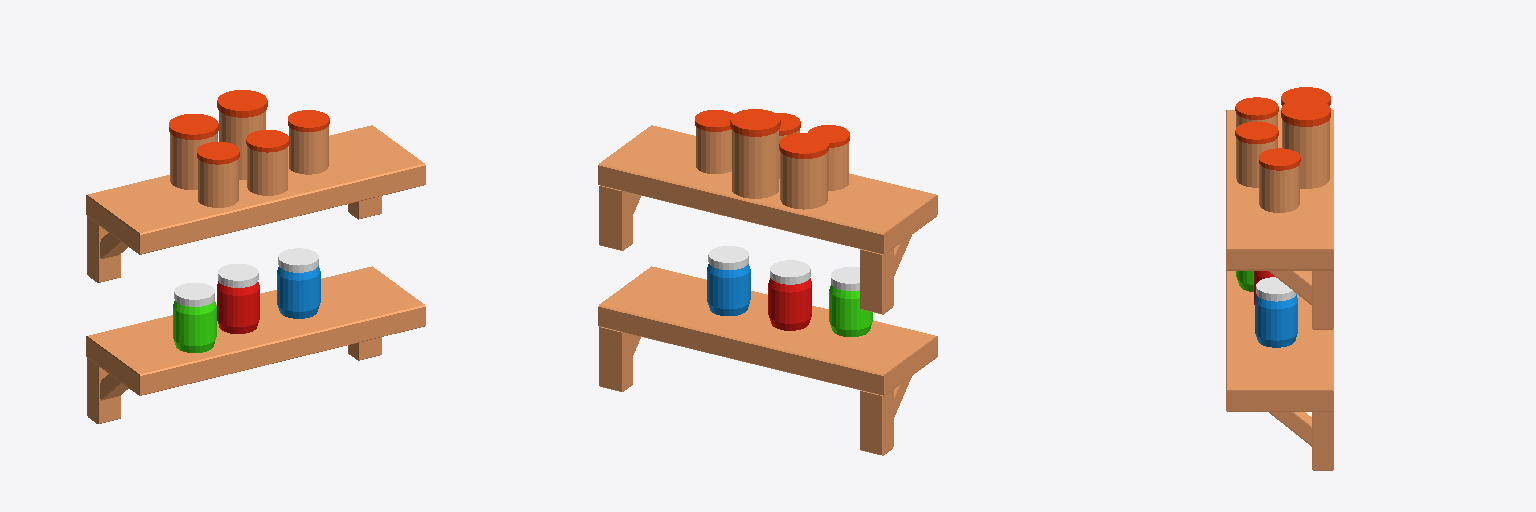
Rendered from green-kitchen5.obj.
3 views of the same model, side by side, from view 1: azimuth 30°, elevation 25°; view 2: azimuth 150°, elevation 25°; view 3: azimuth 270°, elevation 25° (orthographic).
Parts seen in each view (by area): view 1: polySurface13; view 2: polySurface13; view 3: polySurface13.
Part boxes in pixels (x1,y1,x2,y2): polySurface13: (86, 90, 425, 423); polySurface13: (598, 109, 937, 455); polySurface13: (1226, 87, 1333, 470).
Size of the model in its own units: 99.59 by 97.39 by 32.73.